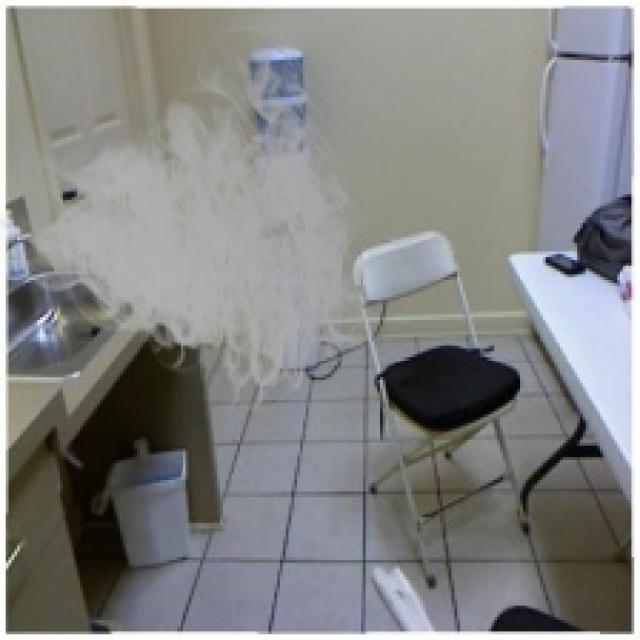smoke: (0, 8, 392, 426)
